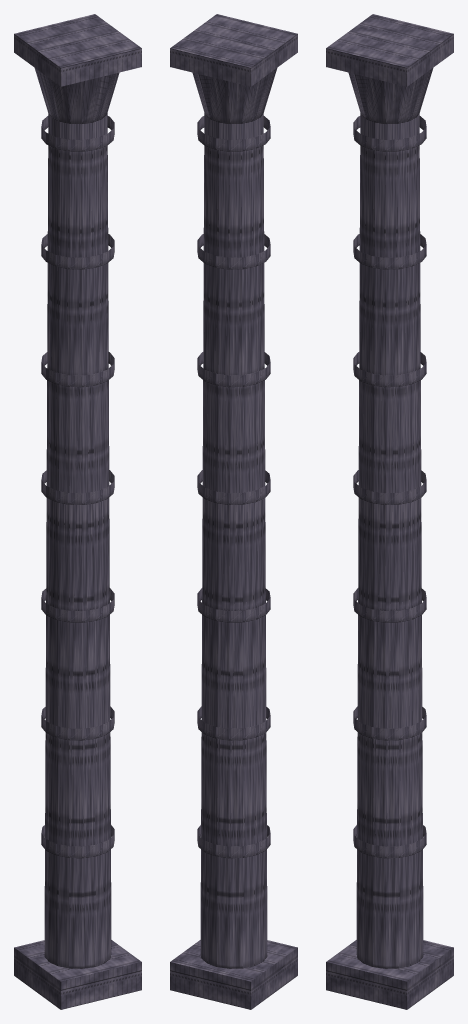
The model's file is Oracle_Hall_Column.gltf.
3 renders of one model, left to right at view 1: azimuth 30°, elevation 25°; view 2: azimuth 150°, elevation 25°; view 3: azimuth 330°, elevation 25°, orthographic.
Visible parts, largest first — view 1: Oracle_Hall_Column; view 2: Oracle_Hall_Column; view 3: Oracle_Hall_Column.
Part boxes in pixels (box(x1,y1,x2,y2)): Oracle_Hall_Column: box(14, 14, 141, 1009); Oracle_Hall_Column: box(170, 14, 297, 1009); Oracle_Hall_Column: box(326, 14, 453, 1009).
Bounding box in the file's own units: 3.6 × 40 × 3.6.
Materials: 1 (1 with a texture image).
